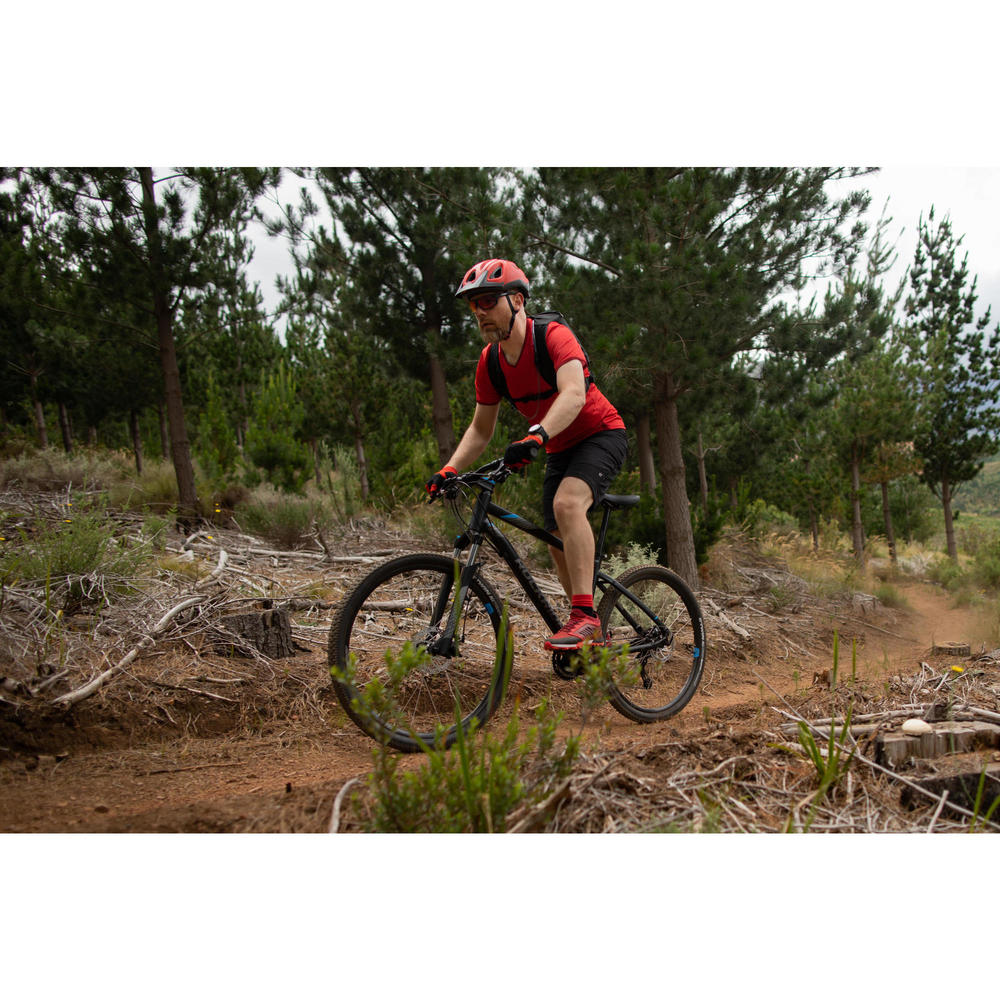MountainBike: (331, 453, 712, 748)
